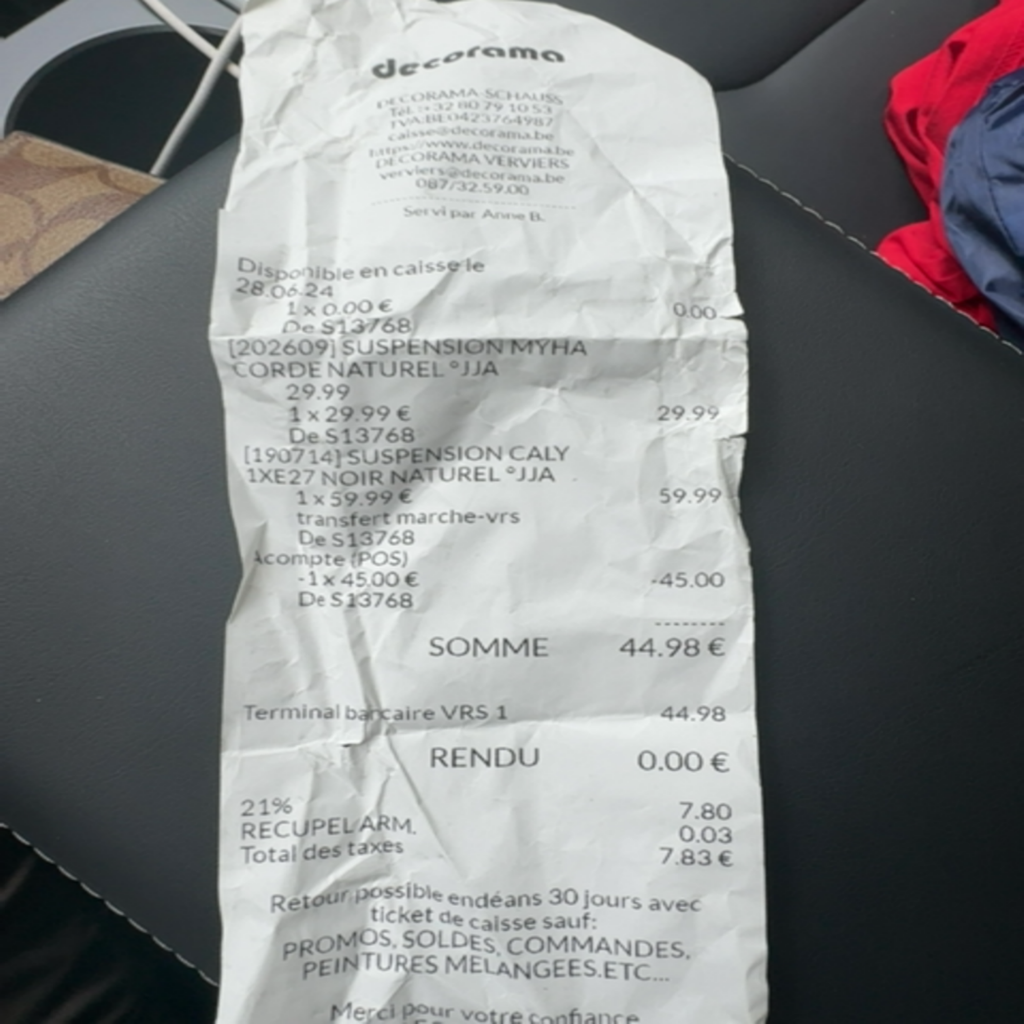recipt: (205, 0, 772, 1024)
